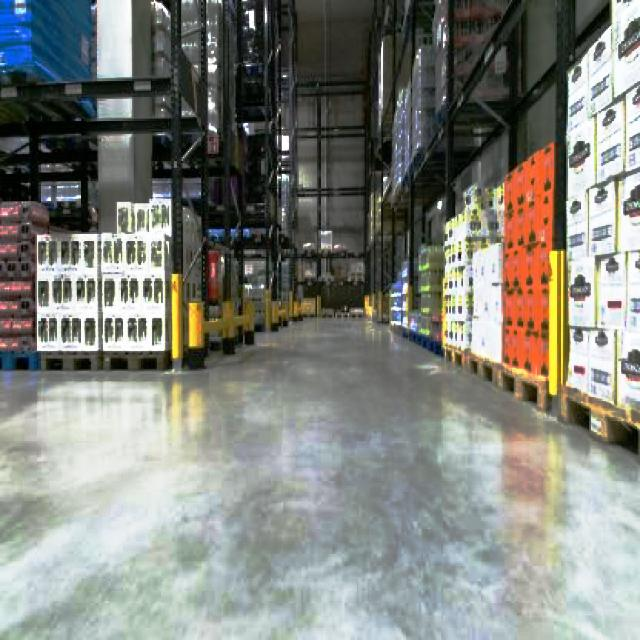ground: (0, 311, 638, 638)
pallet: (366, 0, 638, 637), (0, 194, 318, 372), (558, 0, 638, 506), (438, 137, 555, 411), (34, 203, 174, 369), (502, 138, 555, 408), (0, 197, 48, 368)
